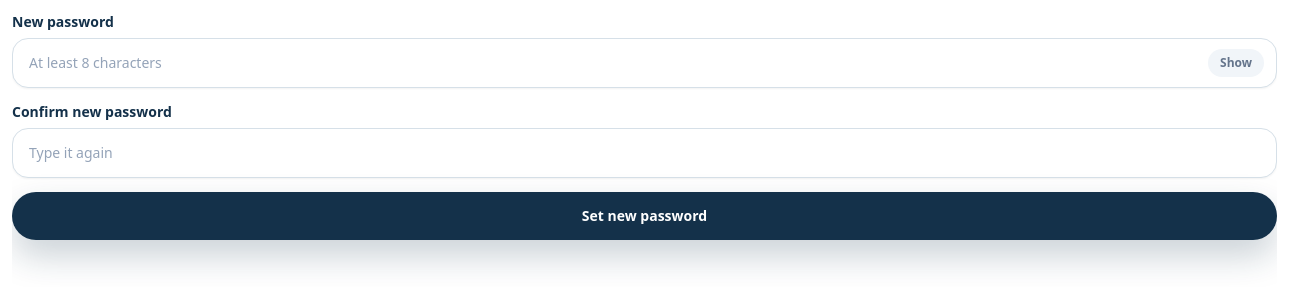
Test case: ResetPasswordPage › sends uid, token and the new password, then links to login
The image size is (1292, 287).
Type "a-Fresh-passphrase-91" into the password field labelled "New password" at (612, 63), box [25, 39, 1200, 87]
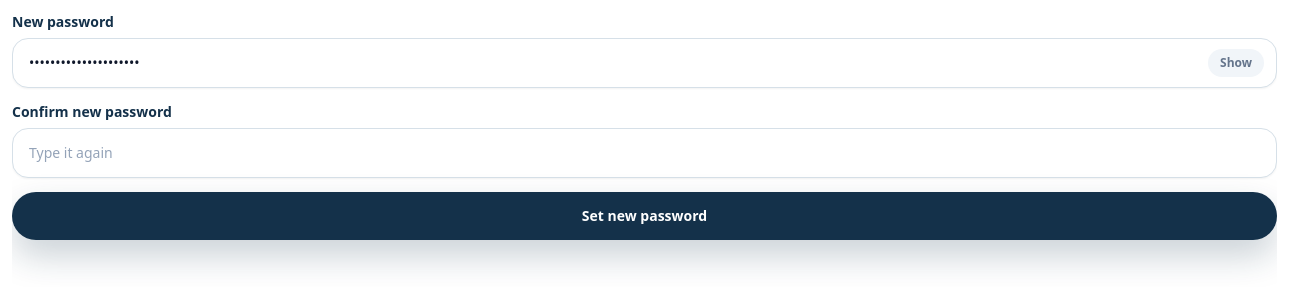
Type "a-Fresh-passphrase-91" into the password field labelled "Confirm new password" at (644, 153), box [25, 129, 1264, 177]
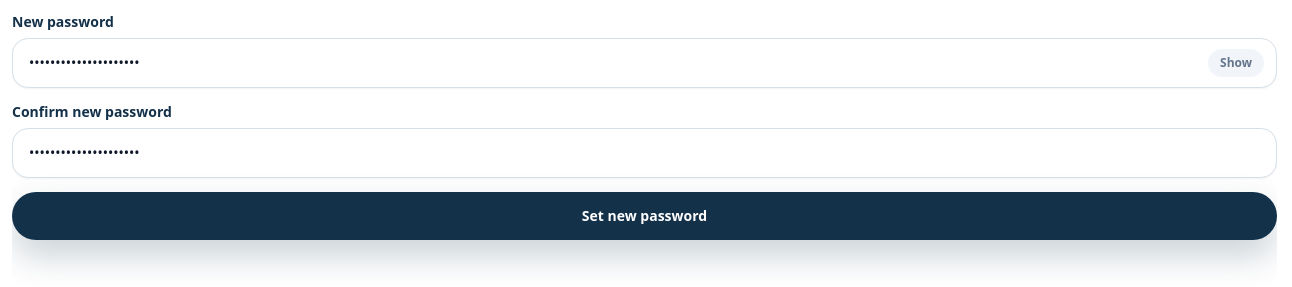
Click the button "Set new password" at (644, 216), box [12, 192, 1277, 240]
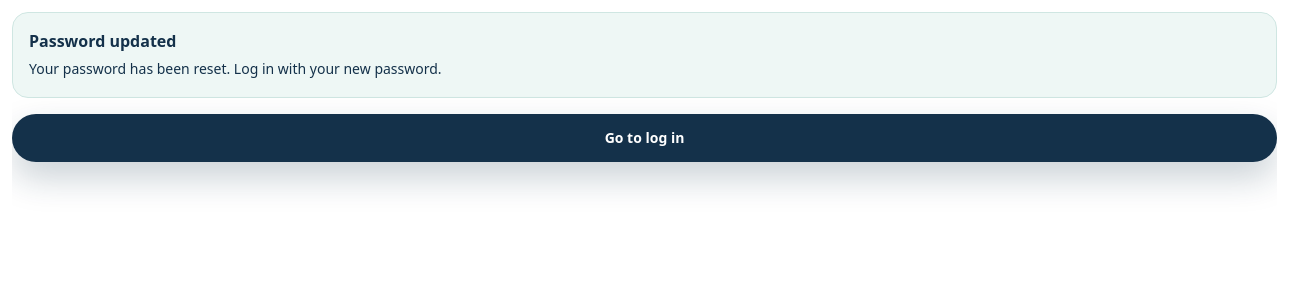
Expected: the heading "Password updated" is shown, [29, 30, 176, 52]
